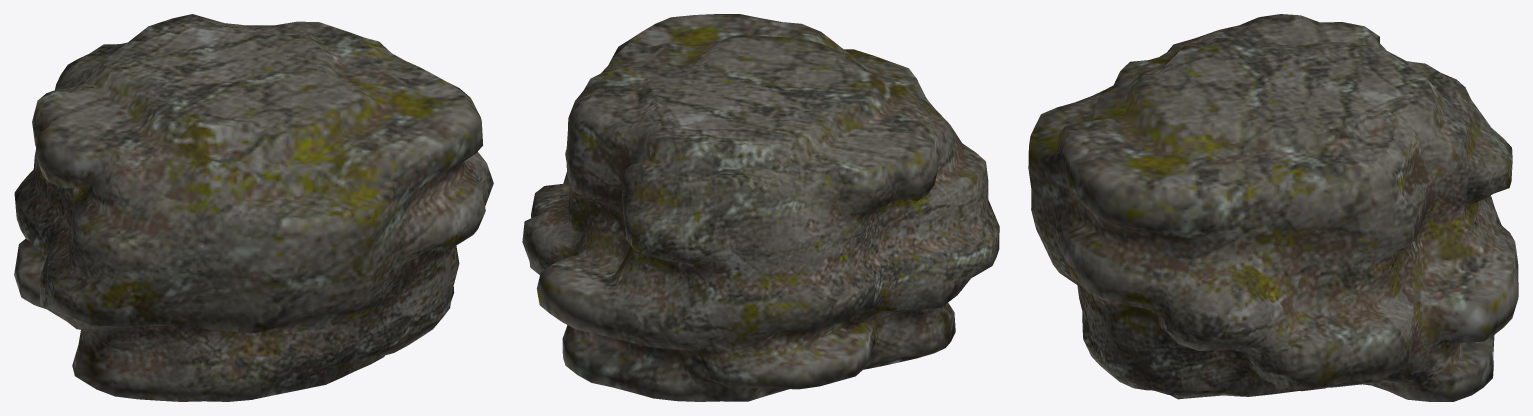
The model's file is Rock.FBX.
The picture shows the model from 3 angles, left to right: view 1: azimuth 30°, elevation 25°; view 2: azimuth 150°, elevation 25°; view 3: azimuth 270°, elevation 25°; orthographic projection. The views are drawn at different scales.
Visible parts, largest first — view 1: Rocks_4; view 2: Rocks_4; view 3: Rocks_4.
Boxes of the visible parts, left/top/right/bottom form: Rocks_4: left=14, top=14, right=493, bottom=401; Rocks_4: left=522, top=14, right=999, bottom=401; Rocks_4: left=1028, top=14, right=1518, bottom=401.
Size of the model in its own units: 581 by 545 by 319.
